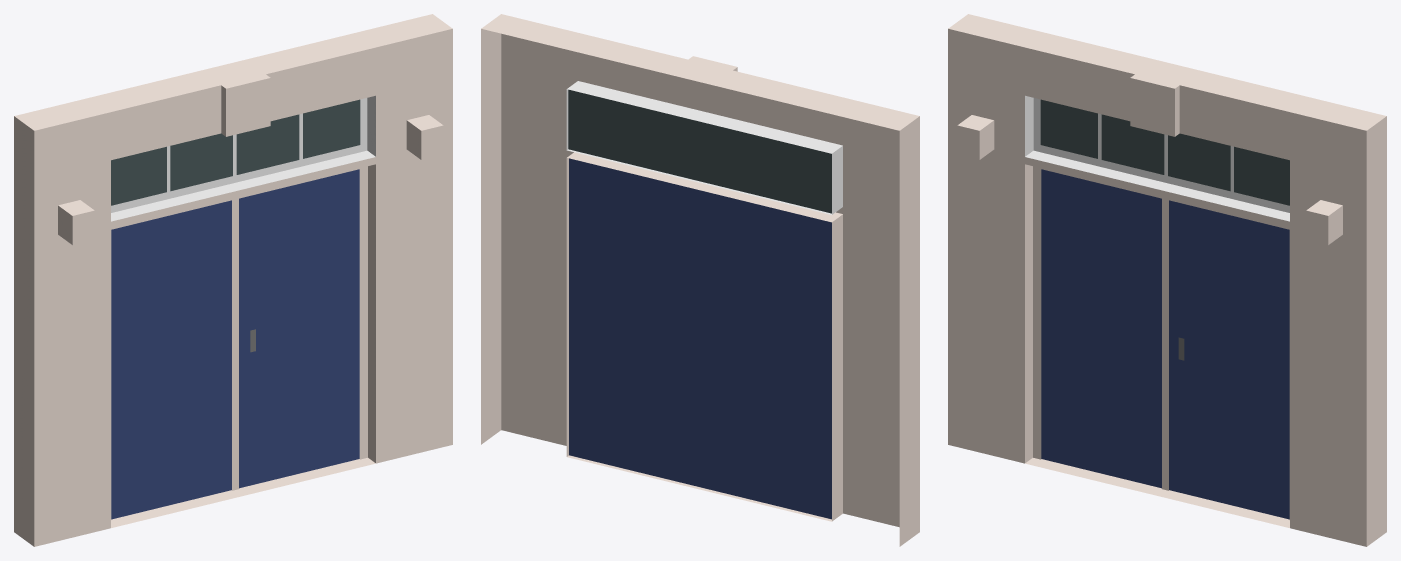
File: entrance.fbx
3 views of the same model, side by side, from view 1: azimuth 30°, elevation 25°; view 2: azimuth 150°, elevation 25°; view 3: azimuth 330°, elevation 25° (orthographic).
Visible parts, largest first — view 1: a2006/500/entrance; view 2: a2006/500/entrance; view 3: a2006/500/entrance.
Boxes of the visible parts, bbox=[...] form: a2006/500/entrance: bbox=[14, 14, 452, 546]; a2006/500/entrance: bbox=[481, 14, 919, 546]; a2006/500/entrance: bbox=[948, 14, 1386, 546].
Size of the model in its own units: 3 by 2.85 by 0.43.
